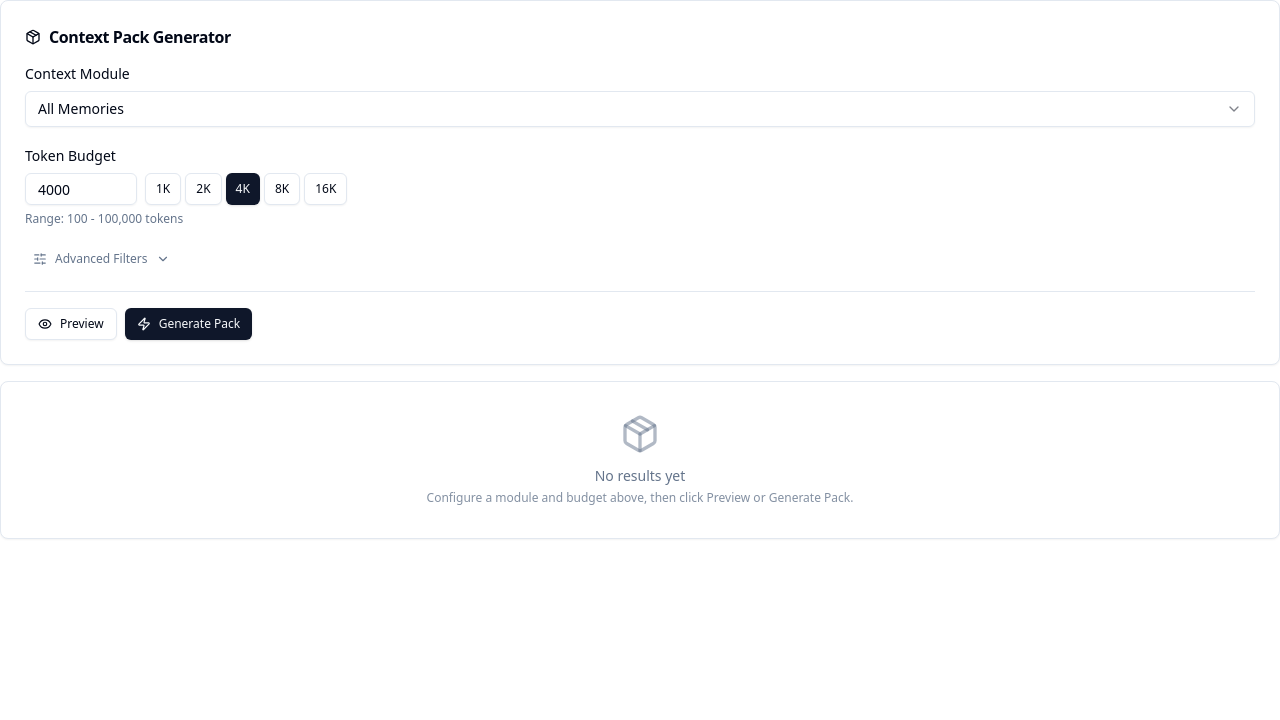
Test: ContextPackGenerator › Advanced Filters › expands filters when clicked
Click the button "Advanced Filters". click: [101, 259]
box: [25,243,178,275]
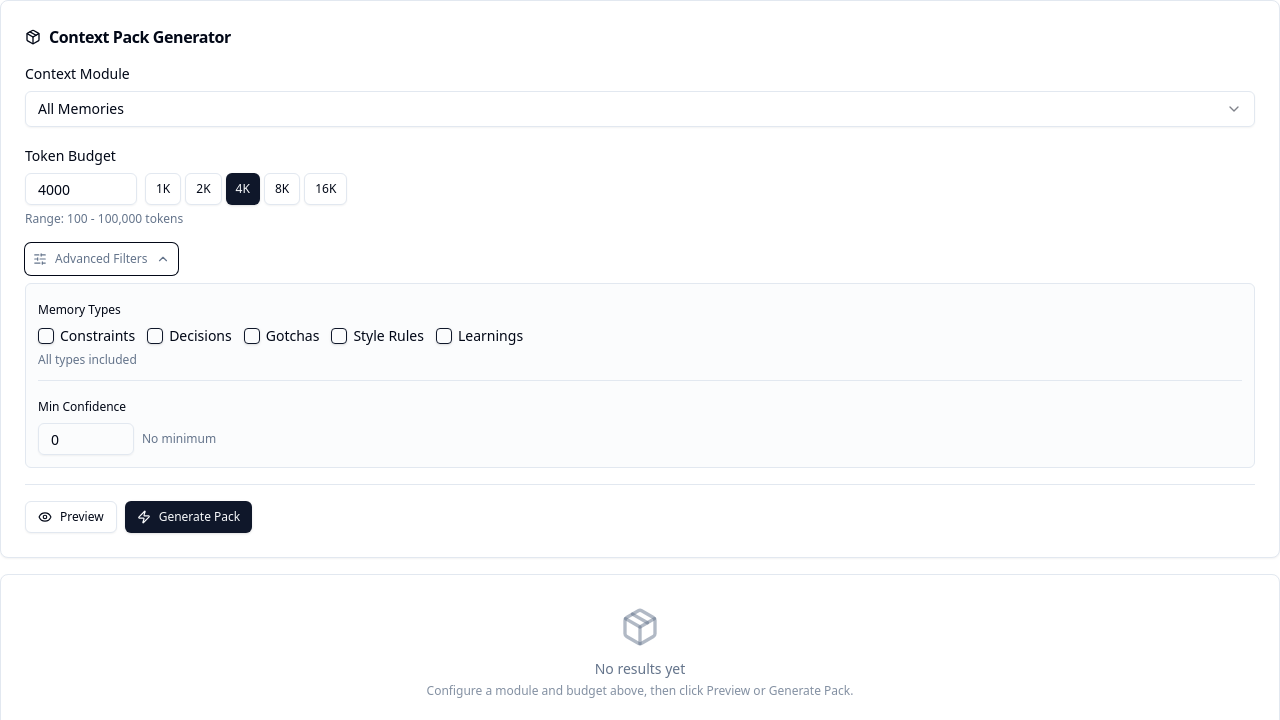
Now the text "Constraints" is shown, box [38,326,135,346]
Now the text "Decisions" is shown, box [147,326,232,346]
Now the text "Gotchas" is shown, box [244,326,319,346]
